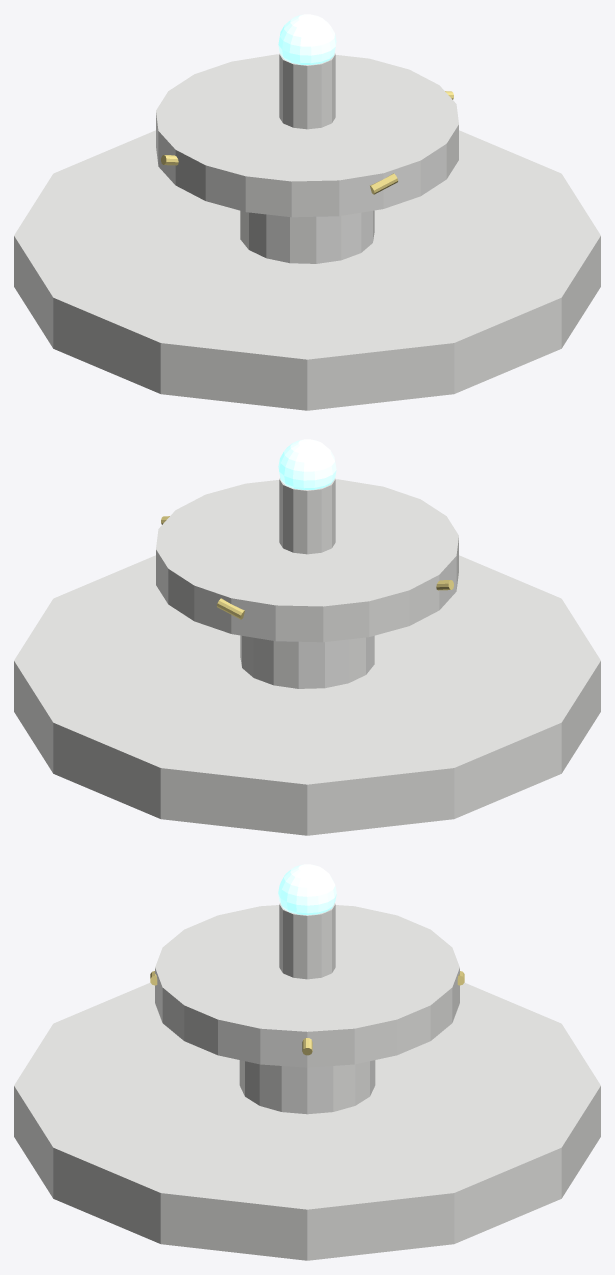
File: marble_fountain.glb
The picture shows the model from 3 angles, top to bottom: view 1: azimuth 30°, elevation 25°; view 2: azimuth 150°, elevation 25°; view 3: azimuth 270°, elevation 25°; orthographic projection.
Visible parts, largest first — view 1: BasinOuterRim, UpperTierBowl, CentralPedestal, TopPillar, BubblingWaterFinial; view 2: BasinOuterRim, UpperTierBowl, CentralPedestal, TopPillar, BubblingWaterFinial; view 3: BasinOuterRim, UpperTierBowl, CentralPedestal, TopPillar, BubblingWaterFinial.
Boxes of the visible parts, left/top/right/bottom form: BasinOuterRim: left=14, top=130, right=600, bottom=410; UpperTierBowl: left=156, top=54, right=458, bottom=217; CentralPedestal: left=240, top=210, right=374, bottom=263; TopPillar: left=279, top=53, right=335, bottom=129; BubblingWaterFinial: left=278, top=14, right=336, bottom=64; BasinOuterRim: left=14, top=555, right=600, bottom=835; UpperTierBowl: left=156, top=479, right=458, bottom=642; CentralPedestal: left=240, top=635, right=374, bottom=688; TopPillar: left=279, top=478, right=335, bottom=554; BubblingWaterFinial: left=278, top=439, right=336, bottom=489; BasinOuterRim: left=14, top=982, right=600, bottom=1260; UpperTierBowl: left=155, top=905, right=459, bottom=1067; CentralPedestal: left=239, top=1060, right=375, bottom=1114; TopPillar: left=279, top=903, right=335, bottom=979; BubblingWaterFinial: left=278, top=864, right=336, bottom=915.
Size of the model in its own units: 5.2 by 2.64 by 5.2.
